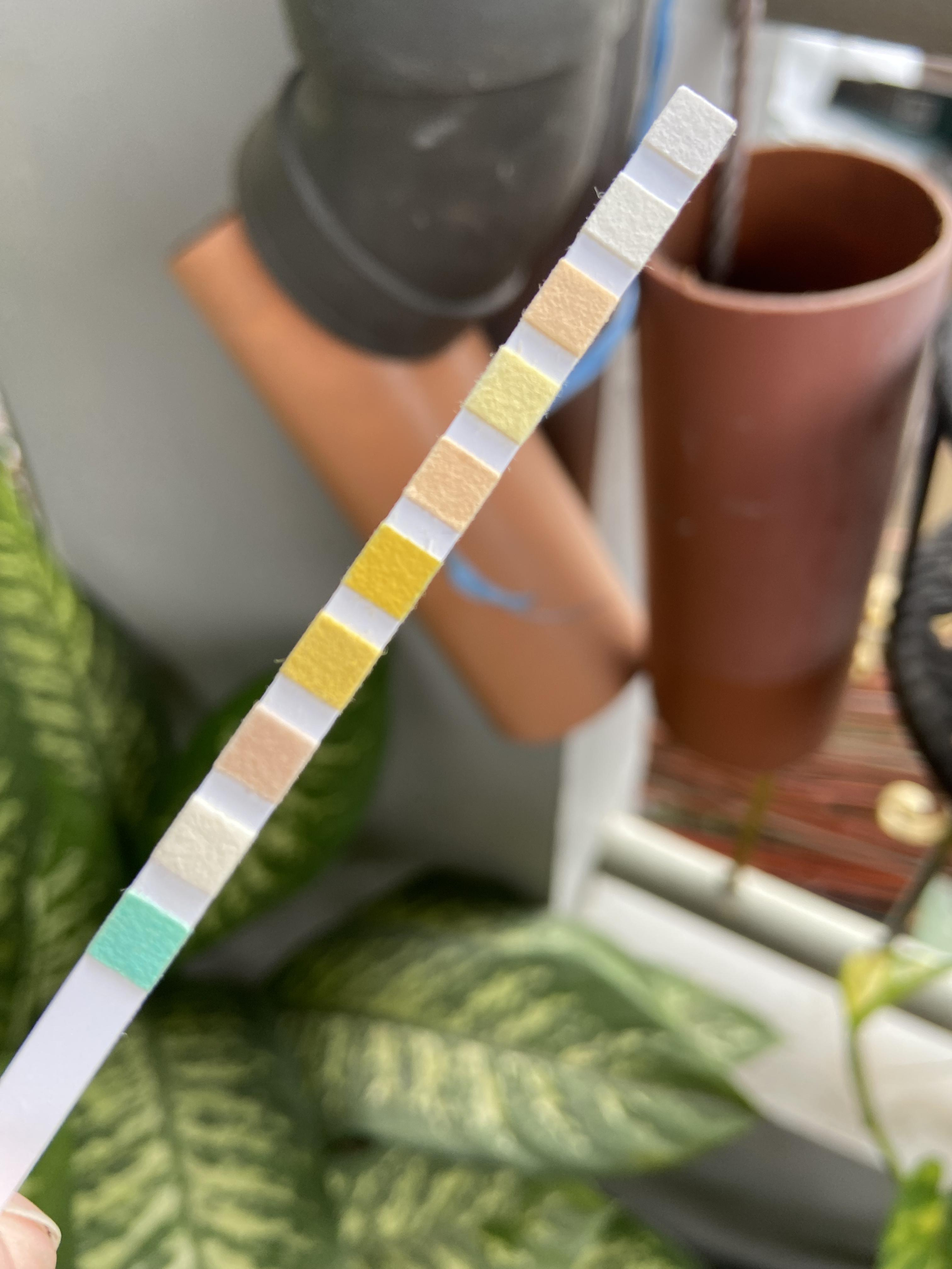Bilirubin: (170, 825, 235, 872)
Blood: (362, 549, 420, 597)
Glucose: (108, 916, 169, 967)
Ketone: (235, 733, 299, 776)
Leukocytes: (664, 110, 716, 154)
Nitrite: (600, 198, 657, 240)
Protein: (483, 377, 540, 415)
SpGravity: (300, 639, 360, 685)
Urobilinogen: (542, 284, 598, 331)
pH: (423, 462, 479, 504)
strip: (0, 87, 738, 1209)
